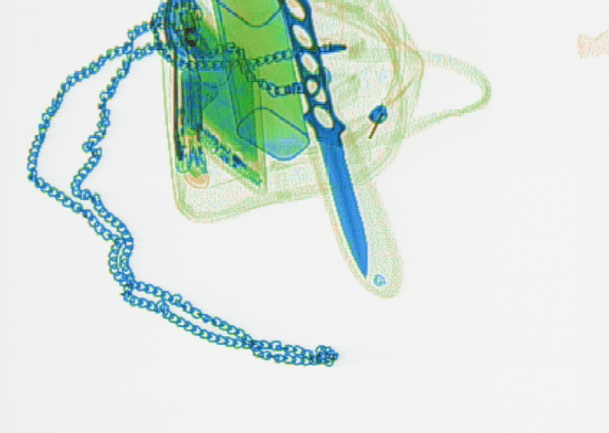knife: (274, 3, 405, 299)
lighter: (186, 88, 208, 178), (173, 66, 188, 180)
zippooil: (205, 0, 309, 158)
